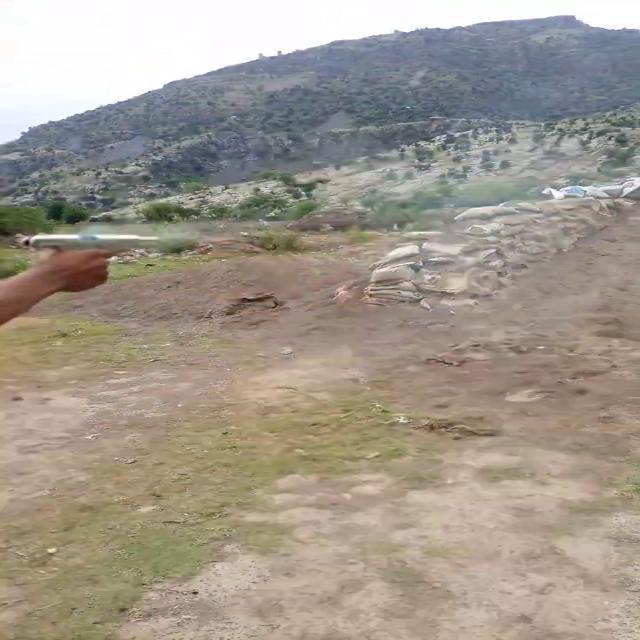Handgun: (11, 226, 200, 299)
